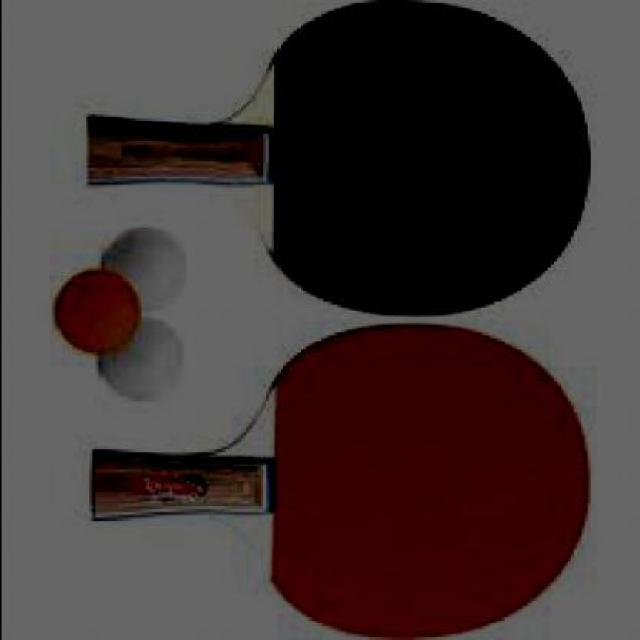table_tennis_racket: (211, 317, 592, 640), (226, 2, 594, 316)
